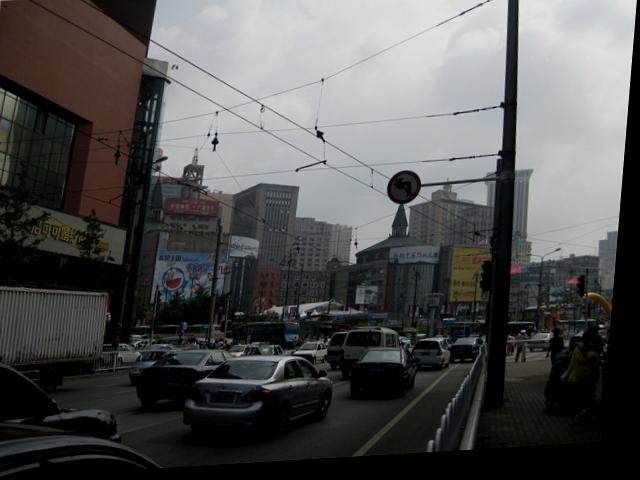not_turn_left: (389, 175, 426, 212)
